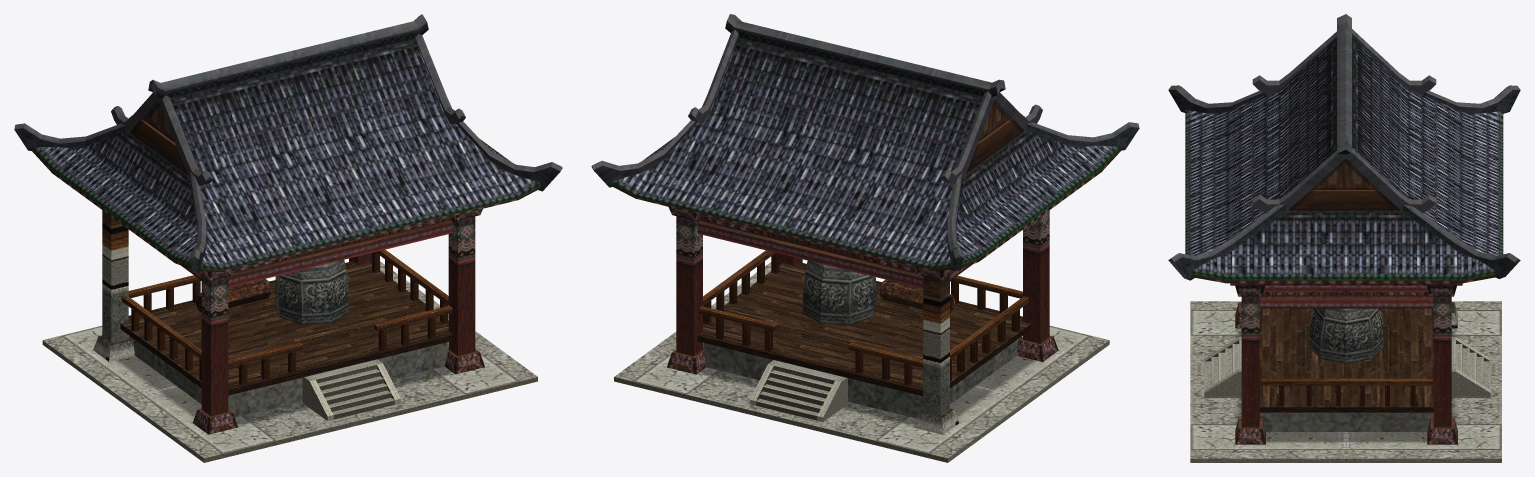
File: landmark-01-bellhouse.glb
The picture shows the model from 3 angles, left to right: view 1: azimuth 30°, elevation 25°; view 2: azimuth 150°, elevation 25°; view 3: azimuth 270°, elevation 25°; orthographic projection. The views are drawn at different scales.
Visible parts, largest first — view 1: landmark-01-bellhouse-01, landmark-01-bellhouse-02; view 2: landmark-01-bellhouse-01, landmark-01-bellhouse-02; view 3: landmark-01-bellhouse-01, landmark-01-bellhouse-02.
Boxes of the visible parts, x1=… form: landmark-01-bellhouse-01: x1=14, y1=14, x2=562, y2=434; landmark-01-bellhouse-02: x1=42, y1=210, x2=537, y2=462; landmark-01-bellhouse-01: x1=591, y1=14, x2=1139, y2=374; landmark-01-bellhouse-02: x1=614, y1=250, x2=1109, y2=462; landmark-01-bellhouse-01: x1=1168, y1=14, x2=1520, y2=444; landmark-01-bellhouse-02: x1=1190, y1=301, x2=1501, y2=462.
Bounding box in the file's own units: 12.97 × 10.56 × 11.03.
Materials: 2 (2 with a texture image).
